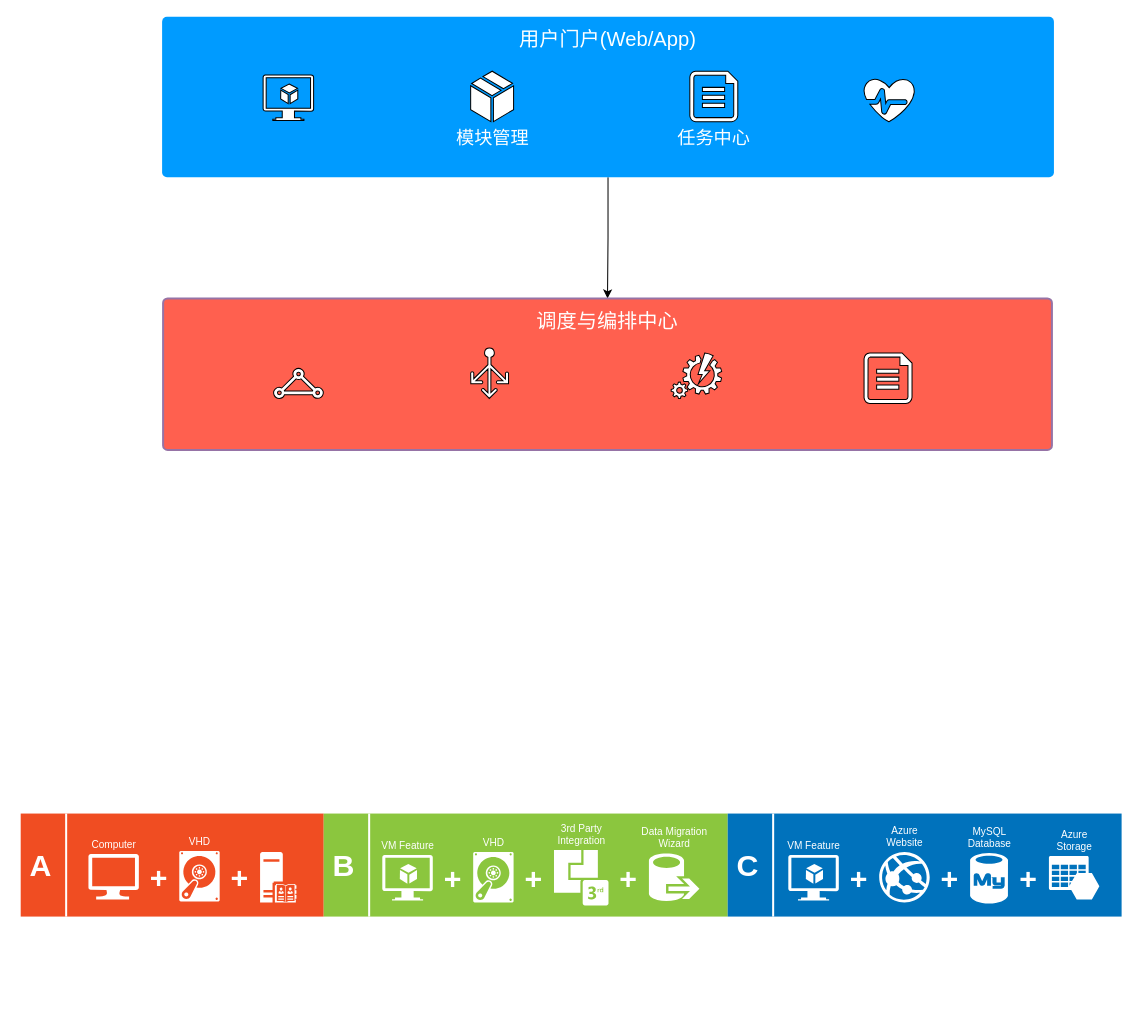
Image size: 1138x1035. Some labels were removed from this diagram. Each missing label, with the centre of its shape:
"Server Directory" belongs at pixel 278 876.
"异常处理" belongs at pixel 696 375.
"日志追踪" belongs at pixel 887 377.
"机器人管理" belongs at pixel 288 97.
"流程调度器" belongs at pixel 298 382.
"监控中心" belongs at pixel 889 100.
"负载均衡器" belongs at pixel 489 372.
